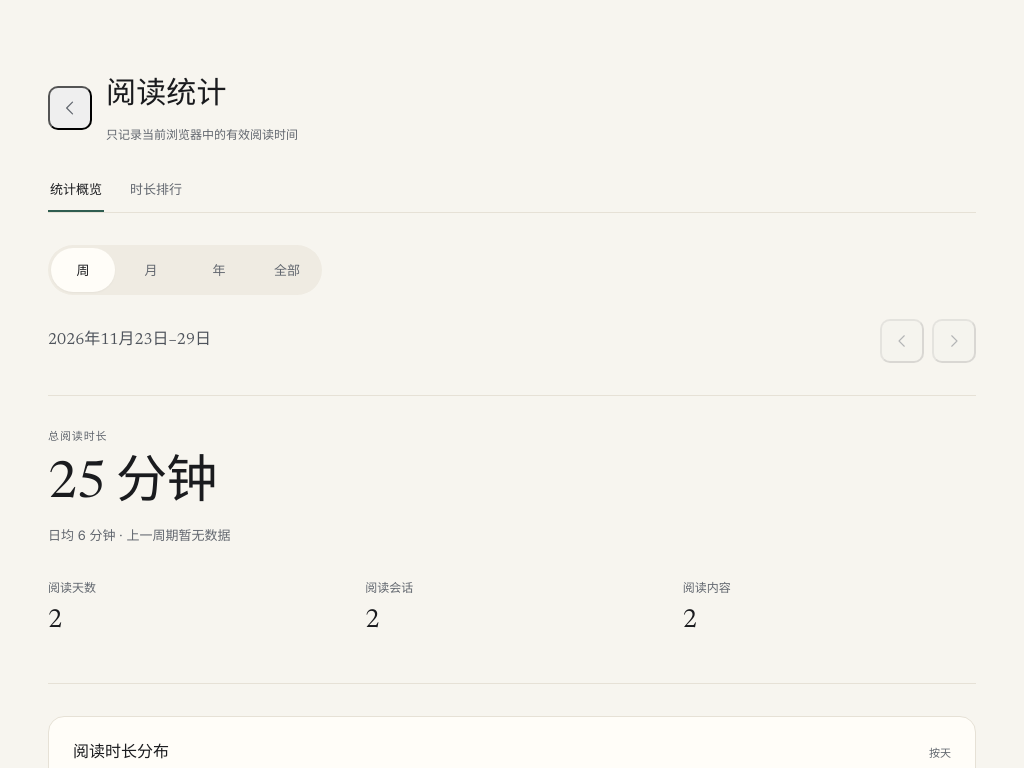
Test: ReadingStatsPage › uses the same totals for the overview and local content ranking
The width and height of the screenshot is (1024, 768).
expect the heading "25 分钟" is shown: met, box [48,459,216,511]
expect the text "日均 6 分钟 · 上一周期暂无数据" is shown: met, box [48,527,230,543]
Click the button "时长排行" at point(156, 190), box [128,168,184,212]
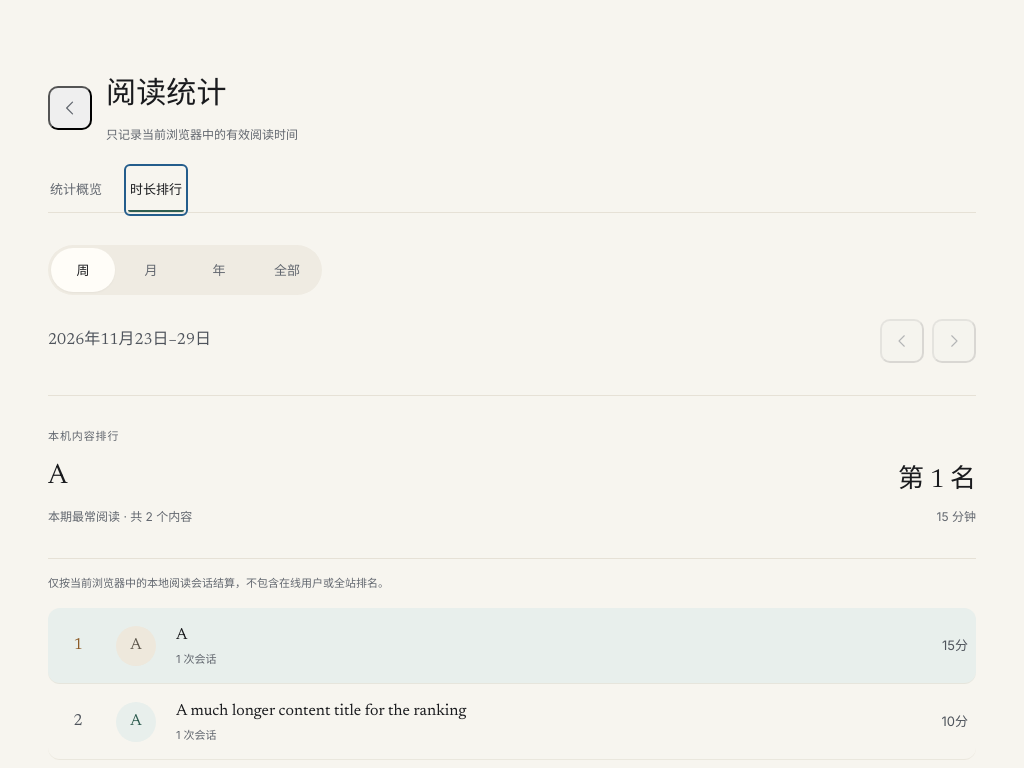
expect the list item "1 A A 1 次会话 15分" is shown: met, box [48,608,976,684]
expect the list item "2 A A much longer content title for the ranking 1 次会话 10分" is shown: met, box [48,684,976,760]
expect the text "仅按当前浏览器中的本地阅读会话结算，不包含在线用户或全站排名。" is shown: met, box [48,576,389,590]
